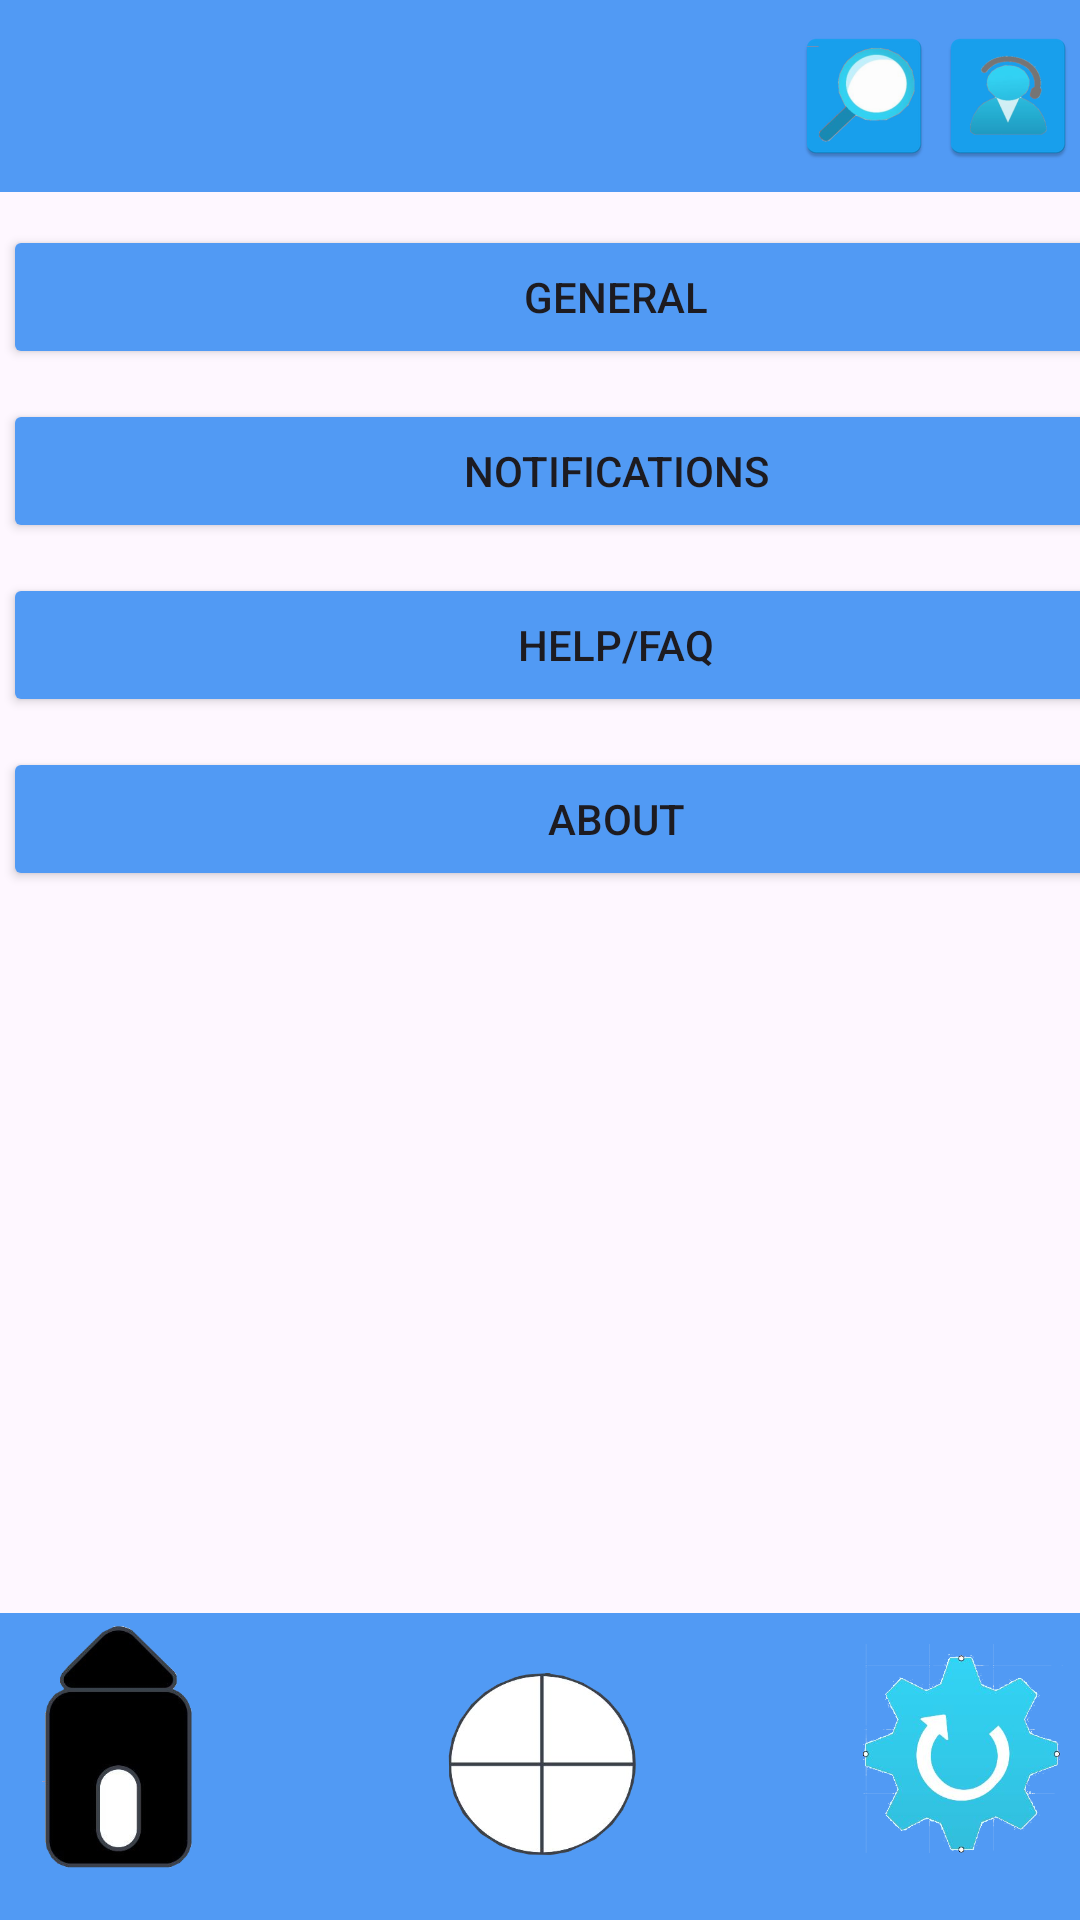

Point at icon controls on the screen. Image size 1080 × 1920, points as (x=x, y=y).
Account Icon: (x=1008, y=98)
Search Icon: (x=864, y=98)
